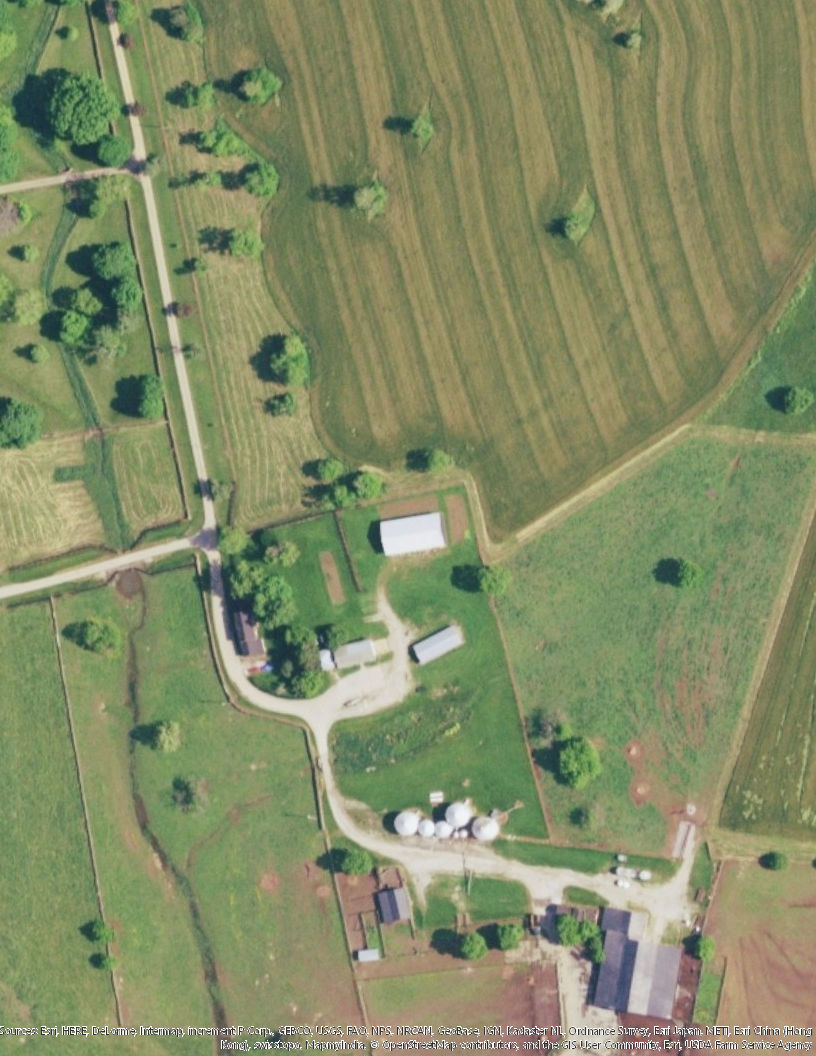cafo: (586, 899, 693, 1031), (374, 513, 455, 560), (408, 619, 473, 665)
